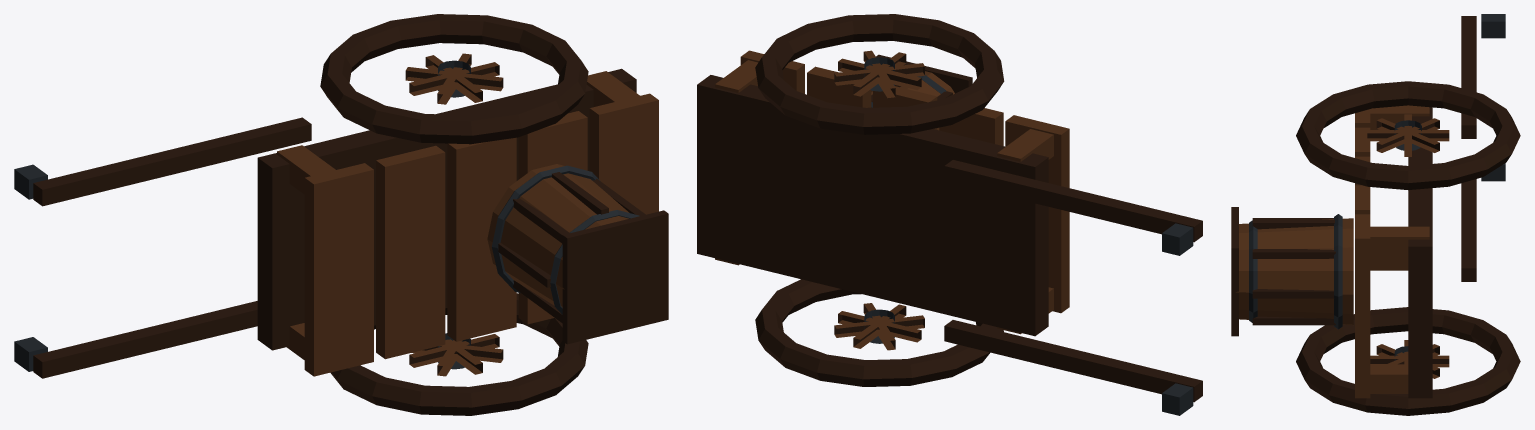
Rendered from Northern_Handcart.obj.
3 renders of one model, left to right at view 1: azimuth 30°, elevation 25°; view 2: azimuth 150°, elevation 25°; view 3: azimuth 270°, elevation 25°, orthographic. The views are drawn at different scales.
Visible parts, largest first — view 1: Northern_Handcart; view 2: Northern_Handcart; view 3: Northern_Handcart.
Part boxes in pixels (x1,y1,x2,y2): Northern_Handcart: (14, 14, 668, 415); Northern_Handcart: (697, 14, 1202, 415); Northern_Handcart: (1231, 14, 1520, 415).
Bounding box in the file's own units: 356 × 178 × 190.
